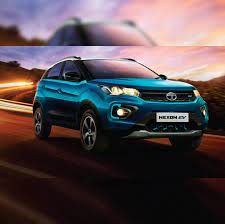Tata Nexon: (30, 54, 210, 163)
